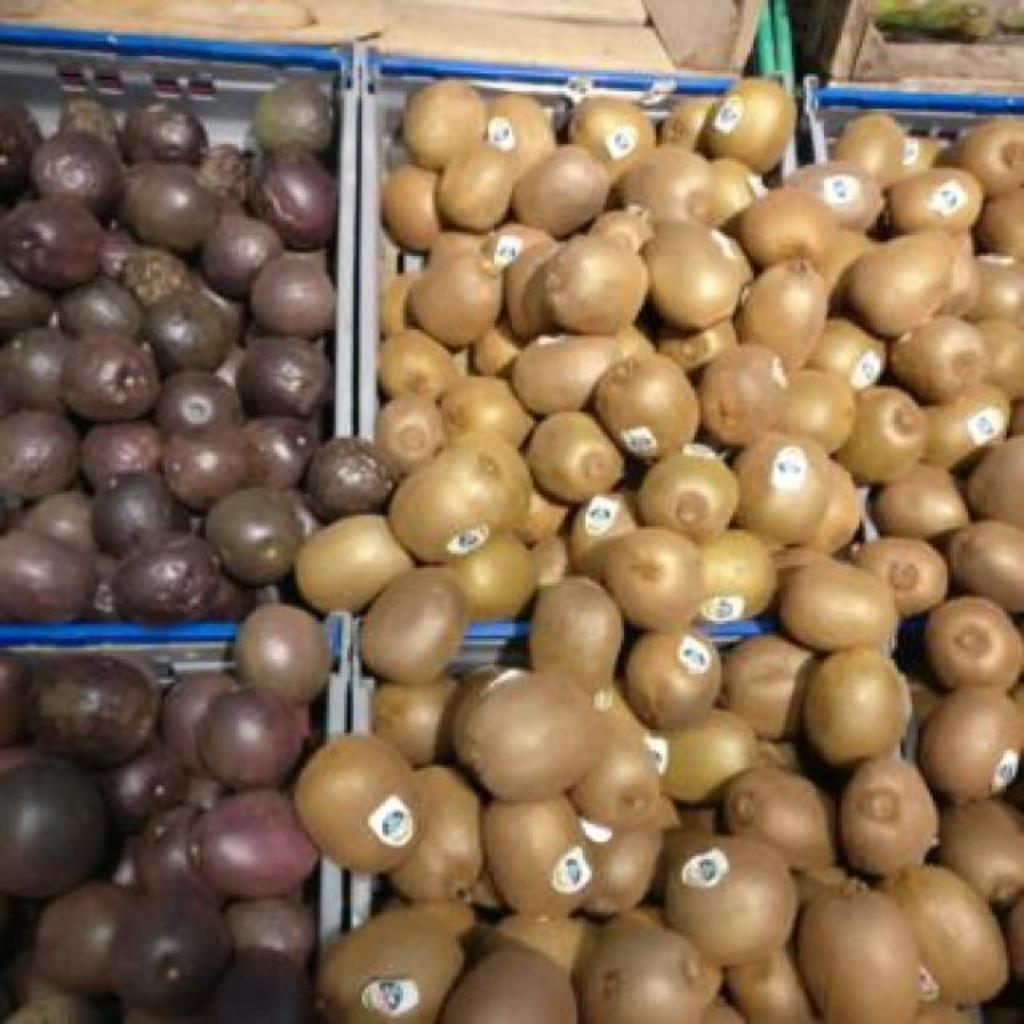kiwi: (390, 432, 532, 562), (454, 676, 594, 800), (666, 836, 798, 964), (320, 908, 464, 1024), (298, 738, 418, 872), (888, 866, 1004, 1002), (800, 894, 918, 1024), (484, 798, 592, 918), (570, 686, 660, 830), (804, 648, 912, 766), (582, 928, 712, 1024), (390, 768, 482, 902), (364, 566, 468, 684), (644, 224, 752, 332), (922, 688, 1024, 802), (296, 514, 414, 612), (842, 758, 938, 876), (726, 768, 834, 870), (530, 576, 624, 692), (846, 236, 952, 338), (441, 944, 576, 1024), (596, 356, 698, 458), (606, 526, 704, 632), (544, 236, 648, 334), (736, 432, 826, 544), (782, 564, 896, 650), (626, 632, 722, 730), (640, 446, 738, 542), (722, 636, 814, 738), (740, 260, 826, 368), (514, 144, 612, 238), (702, 344, 790, 446), (662, 710, 756, 804), (836, 388, 928, 484), (704, 78, 796, 174), (890, 316, 990, 404), (516, 334, 622, 416), (410, 254, 502, 348), (926, 598, 1022, 686), (942, 800, 1024, 902), (530, 412, 622, 502), (736, 188, 840, 266), (924, 384, 1010, 470), (404, 80, 486, 170), (581, 818, 662, 909), (618, 146, 712, 223), (876, 464, 970, 540), (570, 98, 656, 180), (438, 142, 516, 232), (858, 538, 948, 616), (948, 520, 1024, 611), (374, 678, 453, 764), (455, 534, 534, 618), (700, 530, 776, 617), (780, 368, 856, 454), (788, 164, 884, 232), (728, 950, 814, 1024), (444, 378, 534, 448), (890, 168, 982, 234), (380, 330, 460, 400), (486, 94, 554, 176), (376, 394, 442, 474), (808, 321, 884, 390), (968, 434, 1024, 527), (506, 244, 560, 340), (834, 116, 904, 190), (808, 463, 864, 554), (572, 494, 636, 572), (960, 120, 1024, 198), (386, 164, 440, 252), (497, 918, 581, 971), (658, 320, 738, 372), (708, 158, 766, 228), (968, 259, 1024, 328), (814, 231, 874, 292), (942, 230, 980, 316), (981, 322, 1024, 398), (978, 188, 1024, 259), (590, 206, 654, 254), (518, 489, 570, 544), (661, 98, 716, 150), (409, 900, 476, 940), (492, 224, 552, 268), (472, 328, 520, 376), (429, 230, 492, 266), (386, 275, 420, 336), (532, 539, 568, 587), (915, 1002, 982, 1024), (904, 136, 940, 173), (468, 870, 502, 907), (705, 998, 746, 1024)
